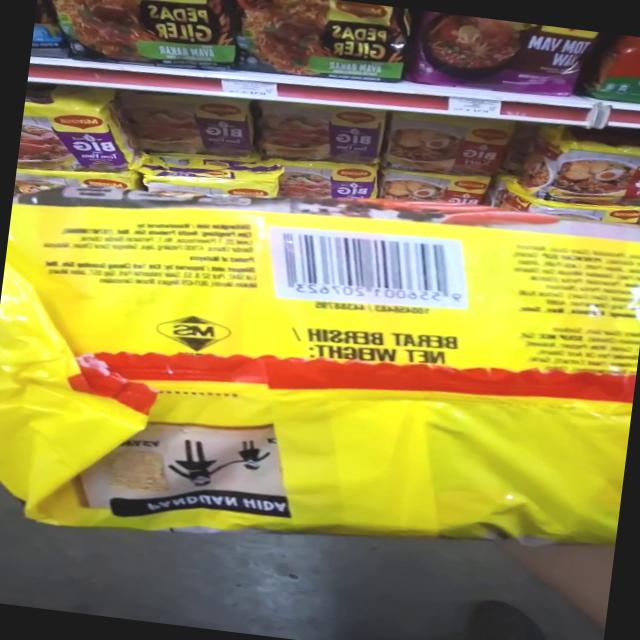Maggi: (0, 155, 640, 604)
